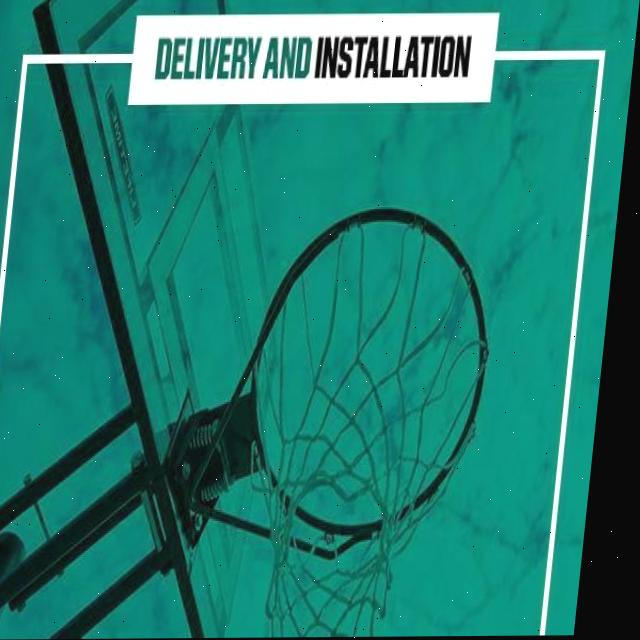hoop: (145, 214, 534, 638)
